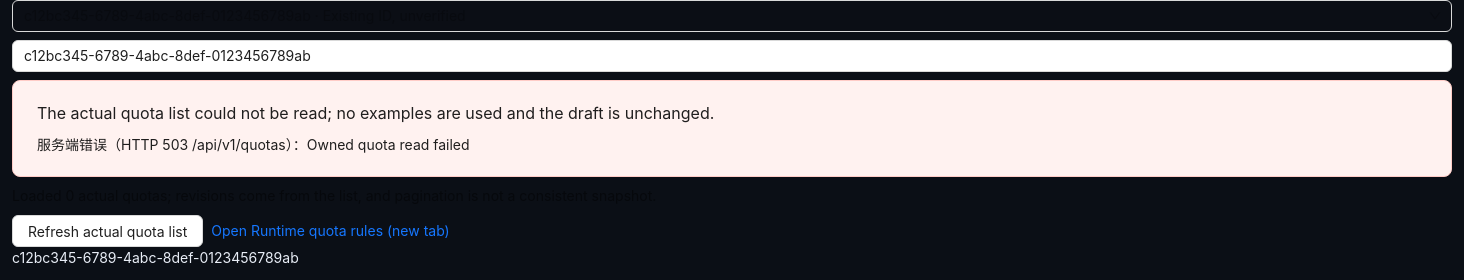
keeps a failed query and its existing ID visible without presenting example choices
Check: the text "The actual quota list could not be read; no examples are used and the draft is unchanged." is shown, box 37,103 -> 714,123
Check: the field named "Current quota ID" holds "c12bc345-6789-4abc-8def-0123456789ab", box 12,40 -> 1452,72
Click the button "Refresh actual quota list".
click(108, 231)  # box 12,215 -> 203,247
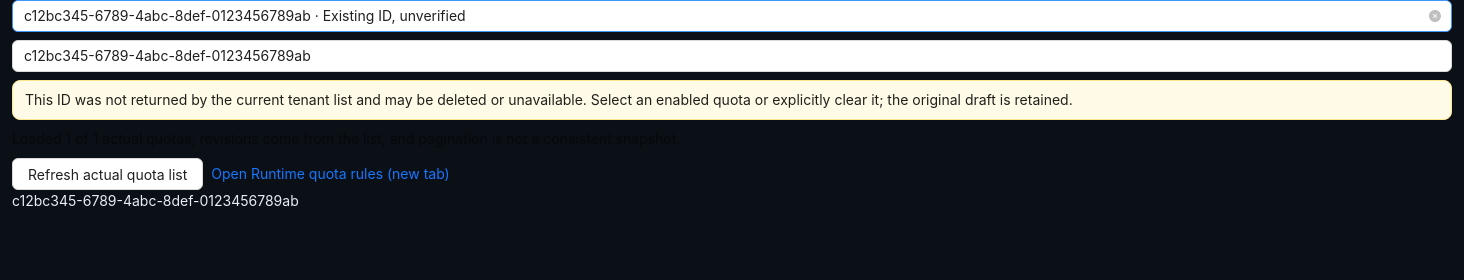
Check: the text named "Policy quota draft" reads "c12bc345-6789-4abc-8def-0123456789ab", box 12,192 -> 299,209
Check: the text "This ID was not returned by the current tenant list" is shown, box 25,91 -> 1073,108
